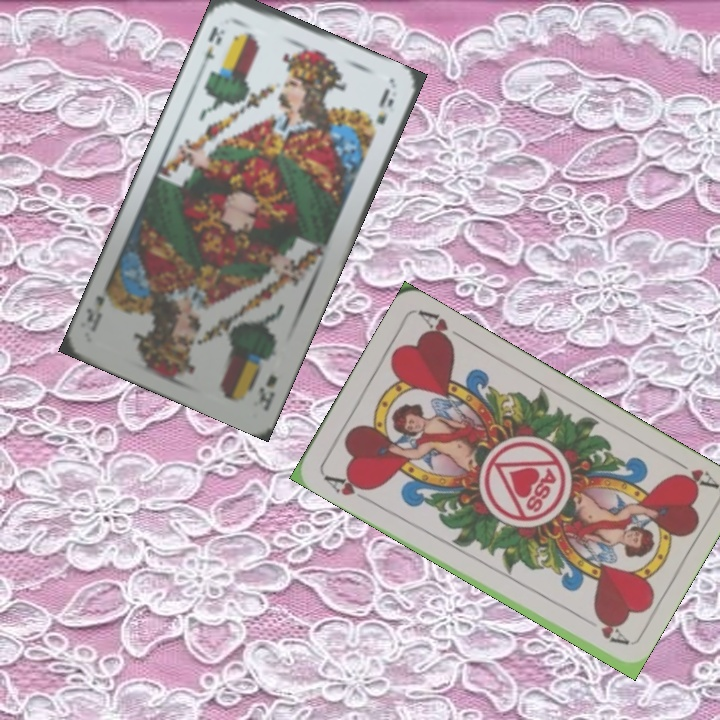EK: (197, 22, 228, 70), (251, 370, 280, 413)
HA: (665, 453, 719, 492), (319, 471, 375, 506)
